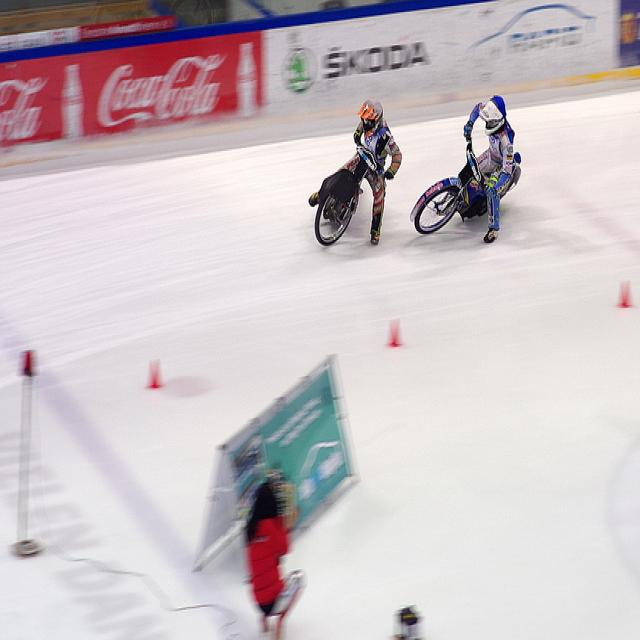motor: (410, 135, 521, 234), (315, 140, 387, 247)
